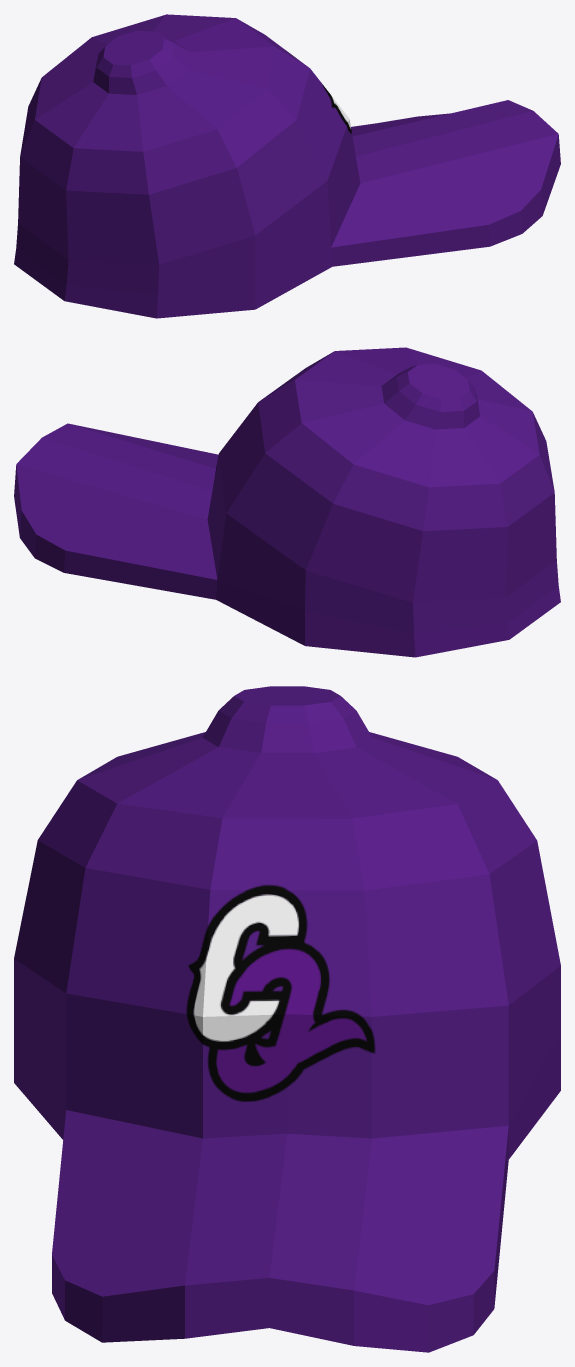
The model's file is GorraConspiradores.glb.
3 views of the same model, one above another, from view 1: azimuth 30°, elevation 25°; view 2: azimuth 150°, elevation 25°; view 3: azimuth 270°, elevation 25° (orthographic). The views are drawn at different scales.
Visible parts, largest first — view 1: Cylinder; view 2: Cylinder; view 3: Cylinder.
Part boxes in pixels (x1,y1,x2,y2): Cylinder: (14, 14, 560, 318); Cylinder: (14, 347, 560, 657); Cylinder: (14, 686, 560, 1352).
Bounding box in the file's own units: 7.48 × 3.25 × 4.31.
1 material, 1 textured.
